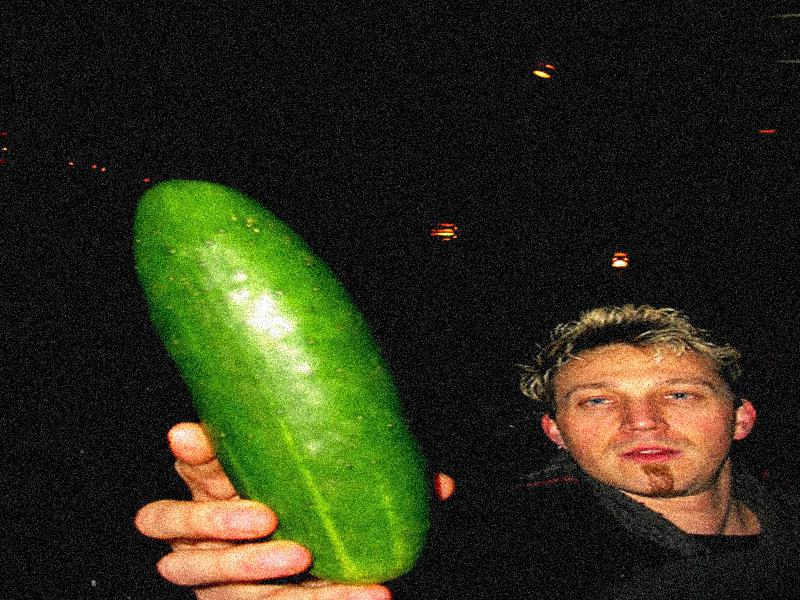Cucumber: (131, 181, 426, 581)
